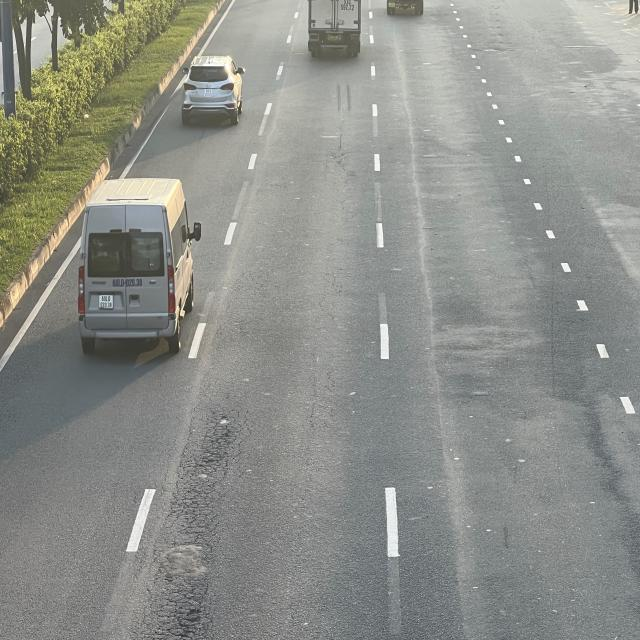car: (180, 54, 244, 123)
truck: (309, 0, 364, 56)
van: (80, 176, 204, 355)
